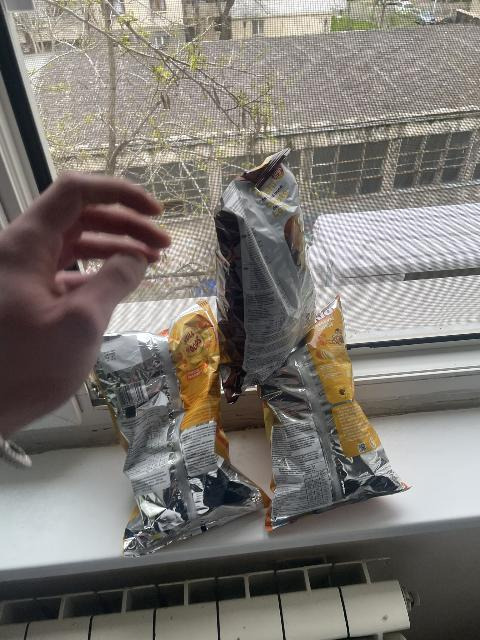Chio Cascaval 125g: (254, 297, 410, 537)
Chio Hula Hoops Cheese 70g: (96, 311, 275, 552)
Lays Beef Grilled Ribs 125g: (206, 156, 314, 403)
